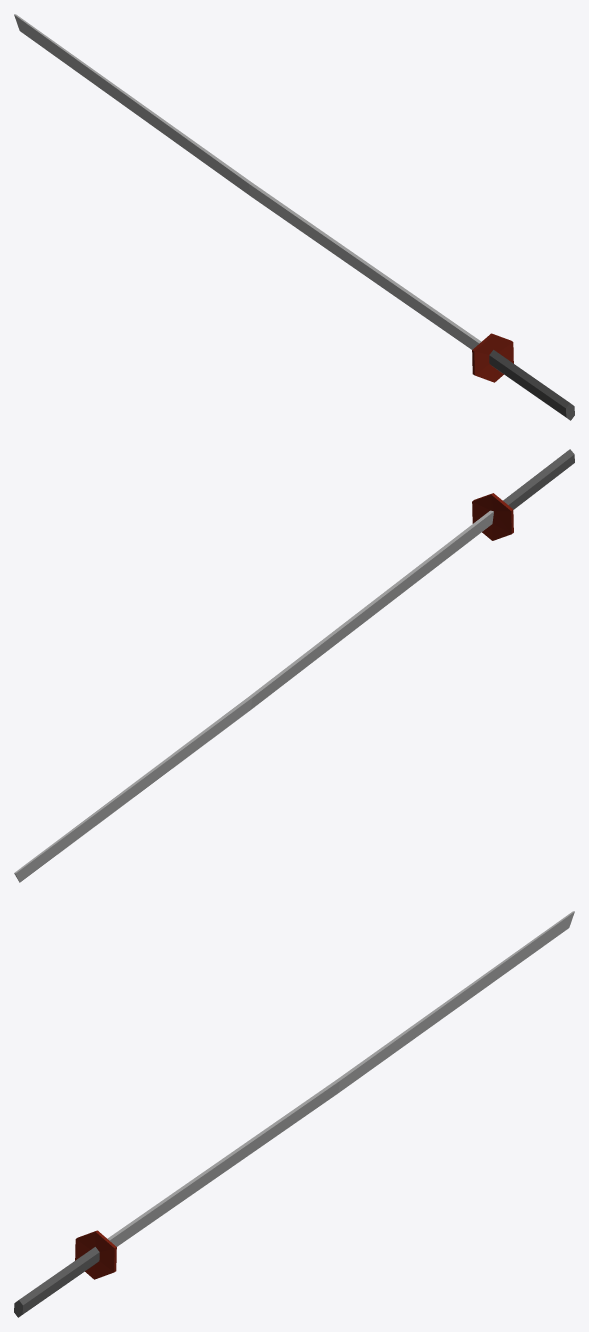
File: sword.glb
The picture shows the model from 3 angles, top to bottom: view 1: azimuth 30°, elevation 25°; view 2: azimuth 150°, elevation 25°; view 3: azimuth 330°, elevation 25°; orthographic projection.
Parts seen in each view (by area): view 1: sword; view 2: sword; view 3: sword.
Boxes of the visible parts, x1,y1,x2,y2 form: sword: (14, 14, 574, 420); sword: (14, 449, 574, 882); sword: (14, 911, 574, 1317).
Bounding box in the file's own units: 0.0468 × 0.0541 × 1.15.
1 material, 1 textured.
